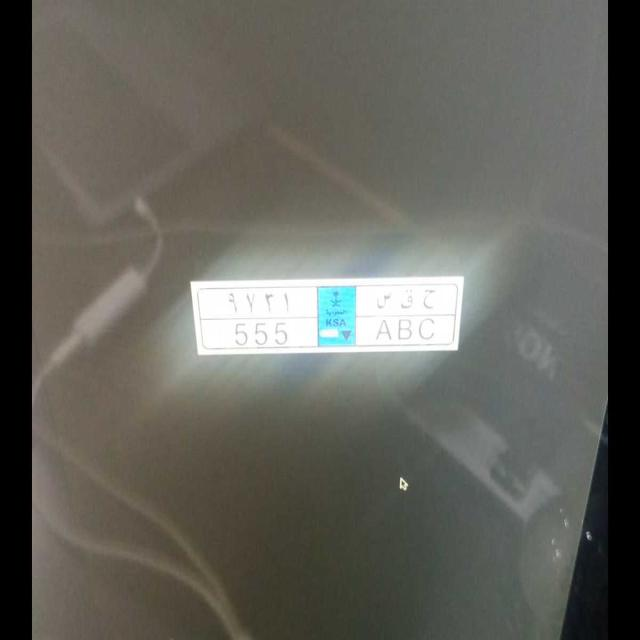license_plate: (218, 317, 447, 349)
